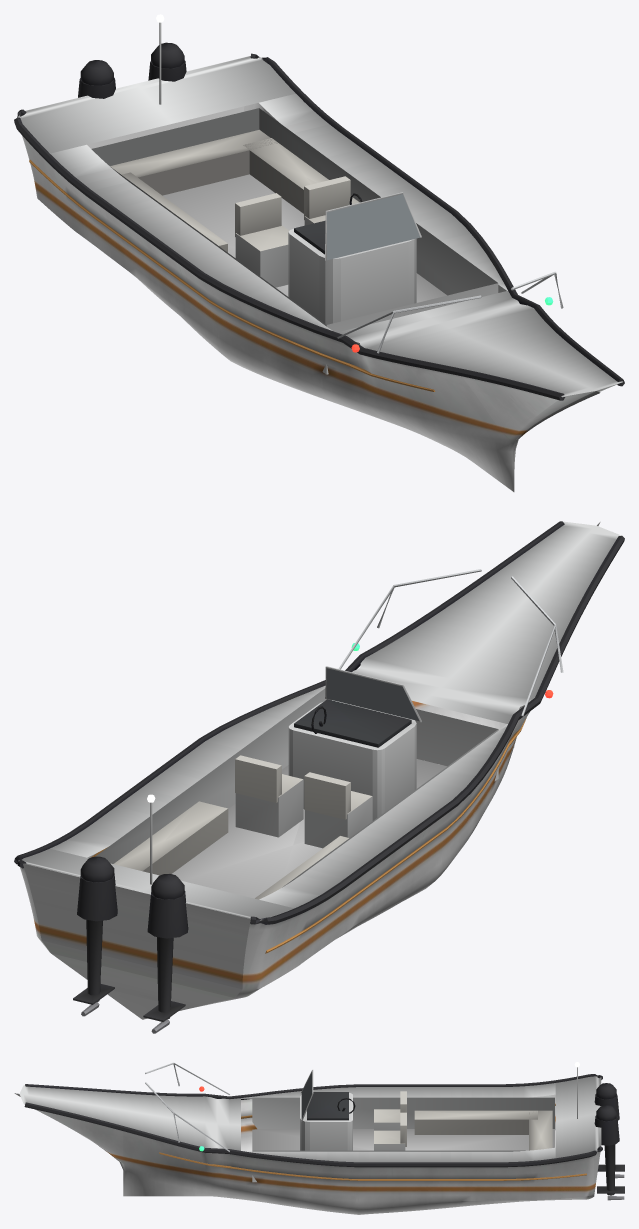
File: boot.glb
3 renders of one model, top to bottom at view 1: azimuth 30°, elevation 25°; view 2: azimuth 150°, elevation 25°; view 3: azimuth 270°, elevation 25°, orthographic. The views are drawn at different scales.
Parts seen in each view (by area): view 1: trim, rumpf, rund, holz; view 2: trim, rumpf, rund, holz; view 3: trim, rumpf, rund, holz.
Boxes of the visible parts, x1,y1,x2,y2 form: trim: (18, 55, 622, 396); rumpf: (22, 103, 619, 491); rund: (14, 22, 624, 400); holz: (163, 174, 446, 302); trim: (19, 521, 621, 1021); rumpf: (20, 522, 600, 1019); rund: (14, 521, 624, 1033); holz: (172, 759, 446, 898); trim: (19, 1072, 624, 1193); rumpf: (14, 1093, 600, 1214); rund: (24, 1062, 624, 1200); holz: (252, 1129, 554, 1150).
Bounding box in the file's own units: 3.38 × 2.67 × 10.9.
5 materials, 1 textured.
